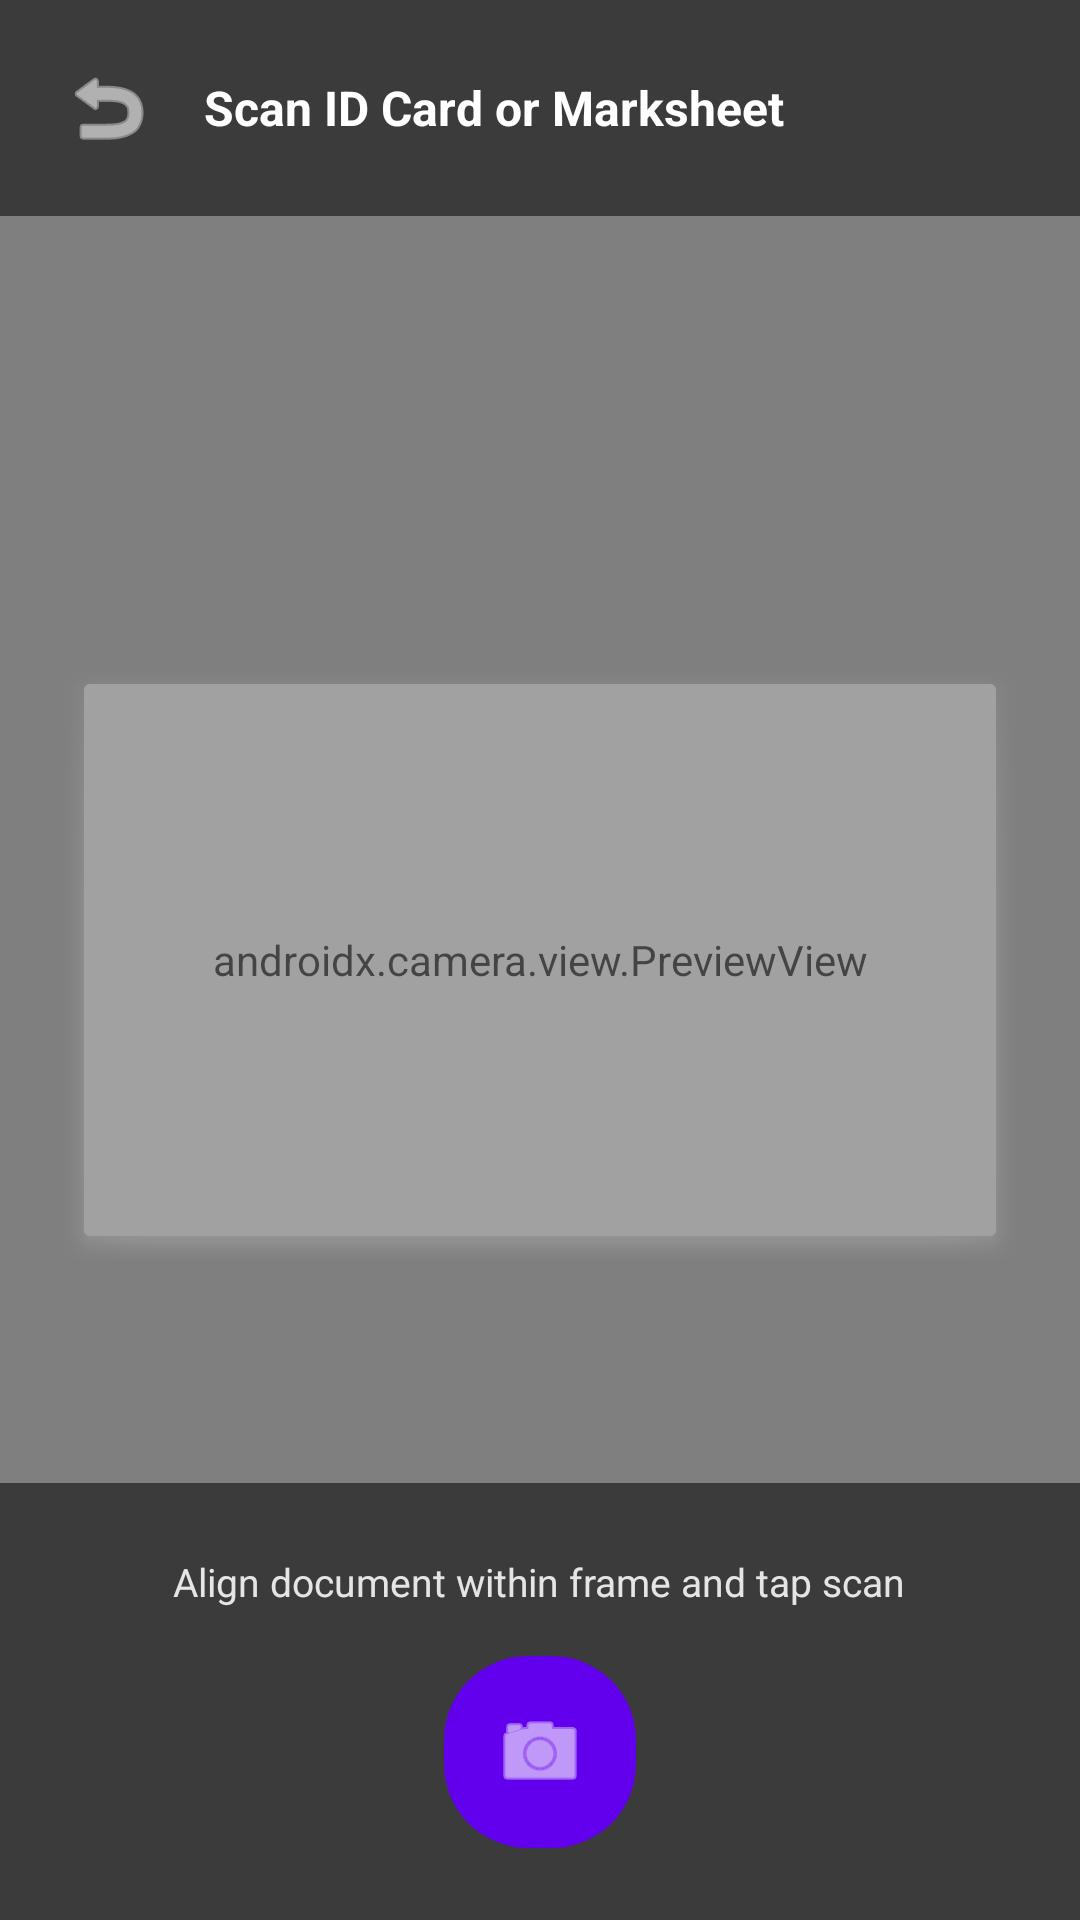

Icon click points for this 1080x1920 phone screenshot, format (x,y):
Back: (109,108)
Capture & Scan: (540,1752)
